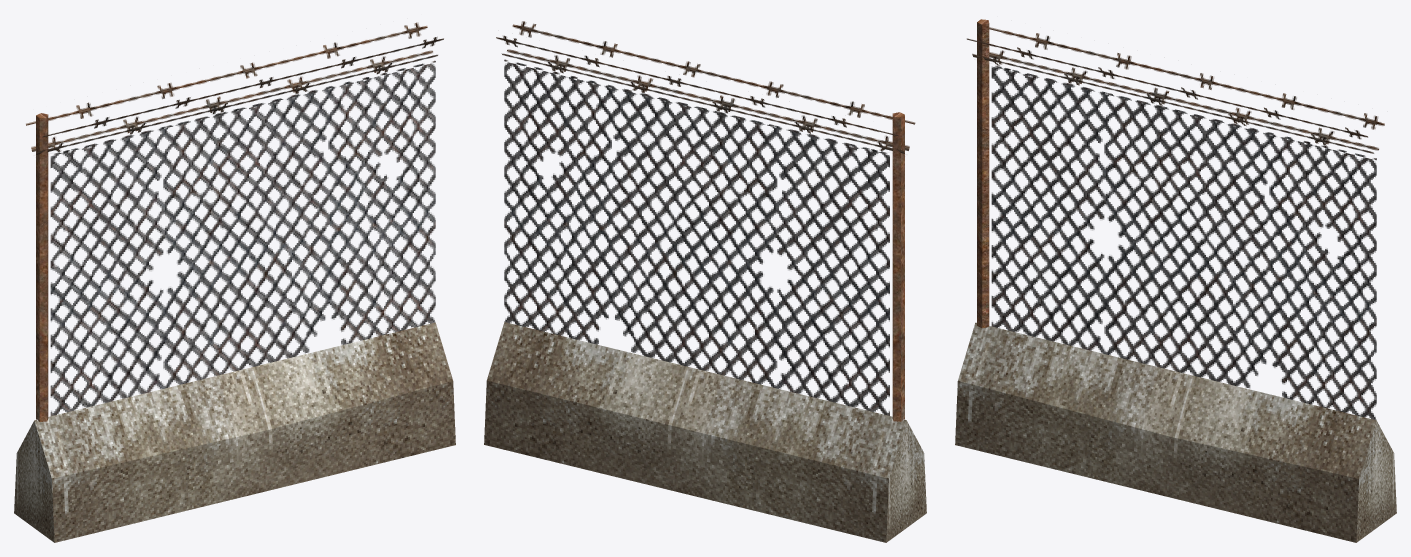
The model's file is chain link fence.glb.
3 views of the same model, side by side, from view 1: azimuth 30°, elevation 25°; view 2: azimuth 150°, elevation 25°; view 3: azimuth 330°, elevation 25° (orthographic).
Visible parts, largest first — view 1: Cylinder.017; view 2: Cylinder.017; view 3: Cylinder.017.
Boxes of the visible parts, x1,y1,x2,y2 form: Cylinder.017: [14, 22, 455, 542]; Cylinder.017: [484, 21, 926, 542]; Cylinder.017: [955, 19, 1396, 542].
Bounding box in the file's own units: 4.17 × 4.07 × 0.7293.
Materials: 2 (2 with a texture image).
